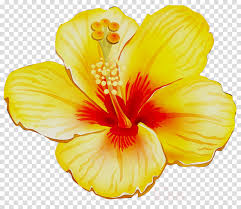hybiscus: (4, 6, 239, 199)
